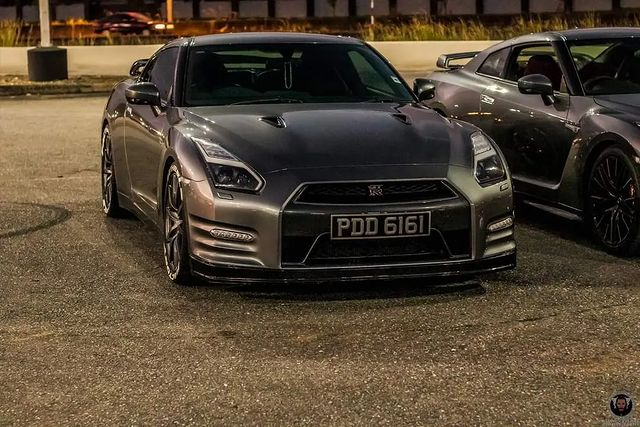License-Plate: (331, 216, 429, 238)
